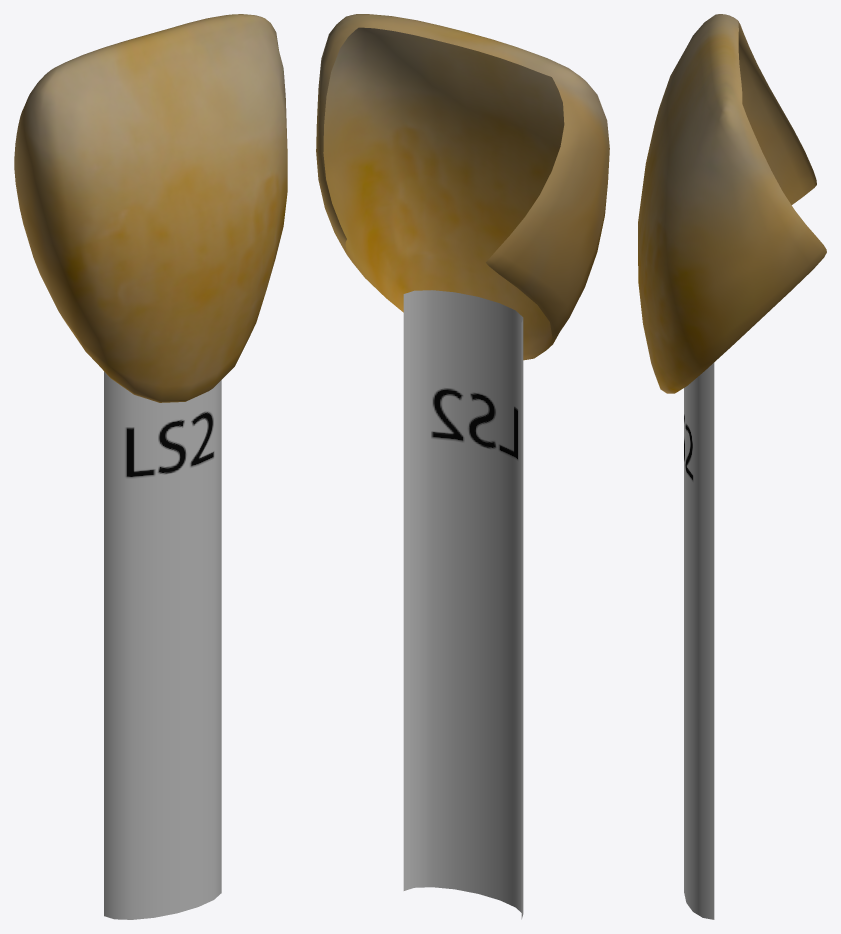
3 renders of one model, left to right at view 1: azimuth 30°, elevation 25°; view 2: azimuth 150°, elevation 25°; view 3: azimuth 270°, elevation 25°, orthographic. The views are drawn at different scales.
Parts seen in each view (by area): view 1: Tab; view 2: Tab; view 3: Tab.
Part boxes in pixels (box(x1,y1,x2,y2)): Tab: box(14, 14, 287, 919); Tab: box(316, 14, 609, 919); Tab: box(638, 14, 826, 919).
Size of the model in its own units: 0.00866 by 0.0274 by 0.00556.
1 material, 1 textured.
